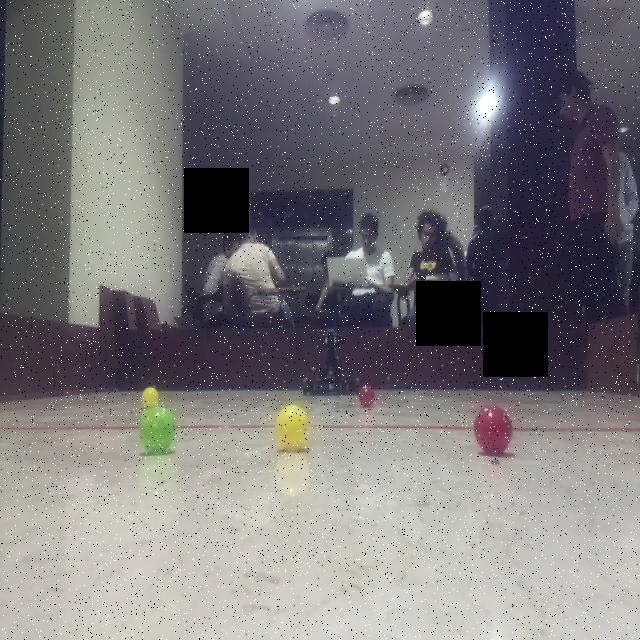ball: (472, 401, 515, 458), (138, 404, 178, 456), (274, 403, 313, 455), (138, 383, 162, 410), (358, 380, 380, 409)
